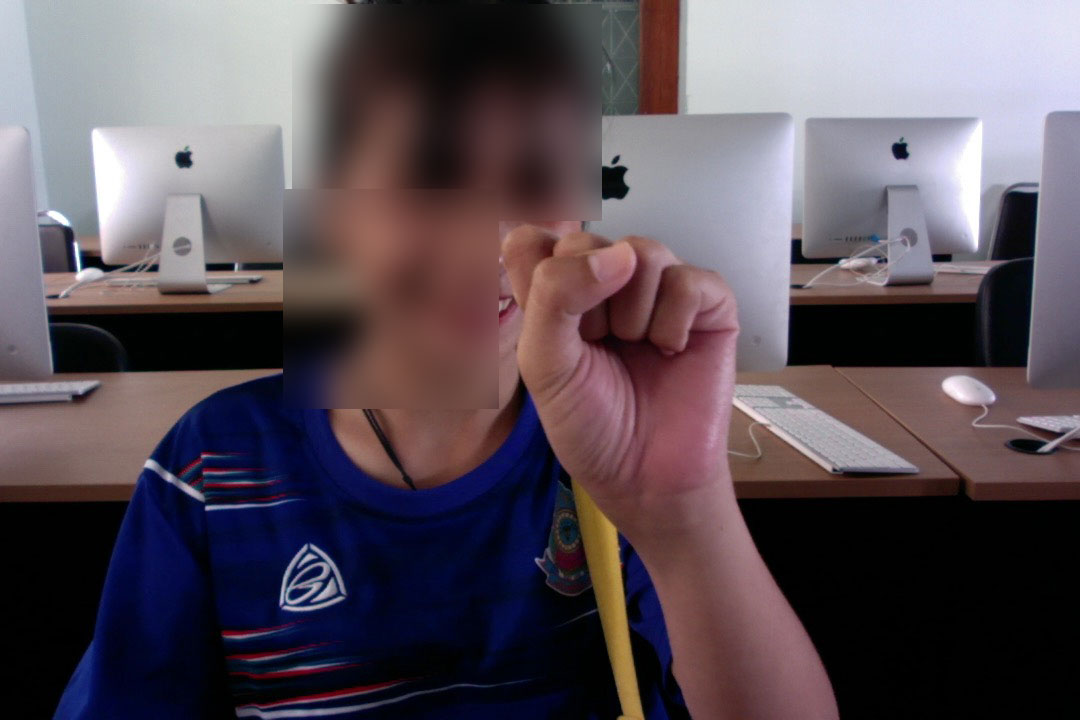sor: (495, 214, 747, 527)
